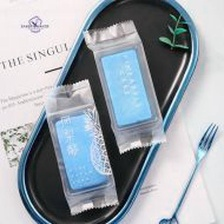snack: (78, 14, 171, 157), (36, 75, 123, 219)
